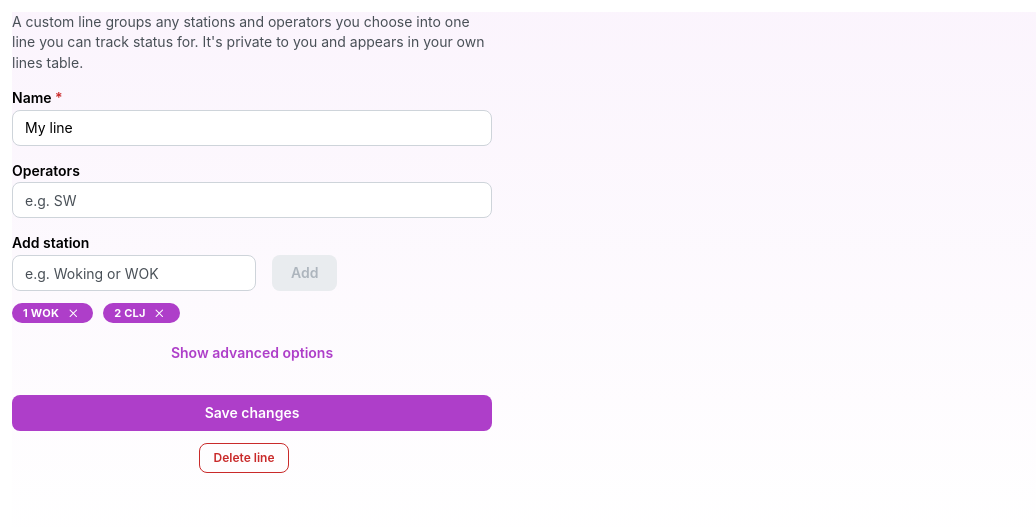
Test case: CustomLineForm › a non-401 failure shows the raw backend error text, not a login prompt
Click the button "Save changes" at (252,413), box x1=12 y1=395 x2=492 y2=431
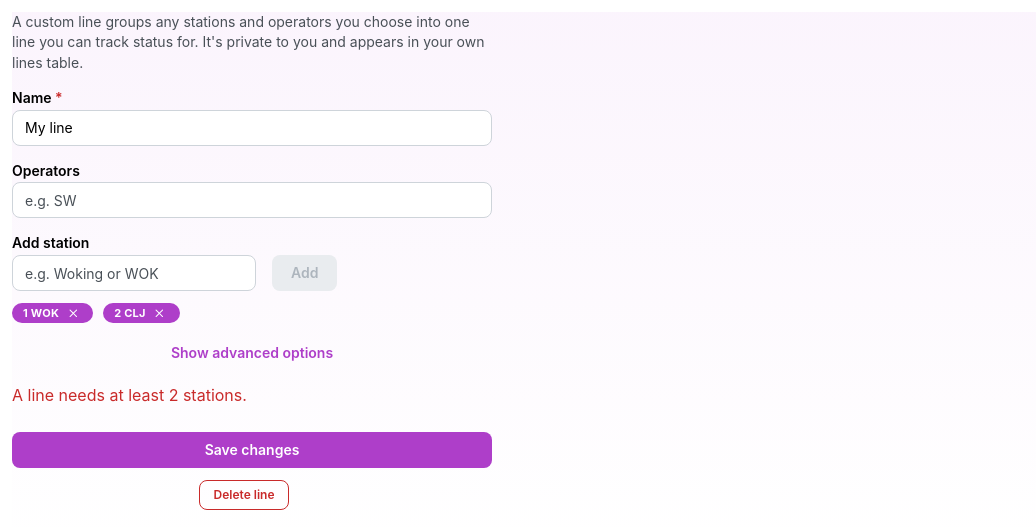
Expected: the text "A line needs at least 2 stations." is shown, x1=12 y1=385 x2=247 y2=405
